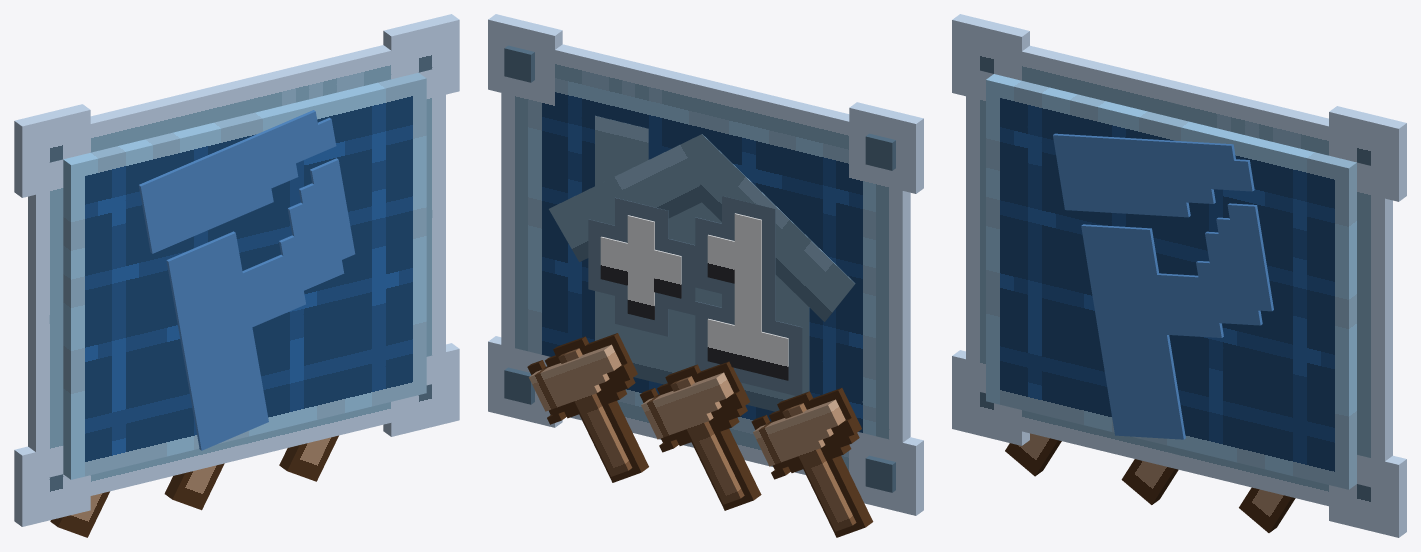
3 views of the same model, side by side, from view 1: azimuth 30°, elevation 25°; view 2: azimuth 150°, elevation 25°; view 3: azimuth 330°, elevation 25° (orthographic). The views are drawn at different scales.
Parts seen in each view (by area): view 1: plan-Local, backp-Local, skull01$$(1)-Local, skull02$$(1)-Local, skull3-Local; view 2: plan-Local, icon_border-Local, icon-Local, house_body-Local, skull3-Local, skull02$$(1)-Local, skull01$$(1)-Local, house_roof_2-Local, house_roof_1-Local, dots-Local; view 3: plan-Local, backp-Local, skull01$$(1)-Local, skull02$$(1)-Local, skull3-Local.
Boxes of the visible parts, bbox=[...] form: plan-Local: bbox=[14, 14, 459, 526]; backp-Local: bbox=[138, 110, 355, 450]; skull01$$(1)-Local: bbox=[164, 463, 224, 510]; skull02$$(1)-Local: bbox=[279, 435, 338, 481]; skull3-Local: bbox=[50, 491, 109, 537]; plan-Local: bbox=[488, 14, 923, 515]; icon_border-Local: bbox=[588, 196, 802, 395]; icon-Local: bbox=[600, 213, 788, 380]; house_body-Local: bbox=[595, 115, 809, 411]; skull3-Local: bbox=[751, 388, 873, 537]; skull02$$(1)-Local: bbox=[527, 333, 648, 482]; skull01$$(1)-Local: bbox=[640, 361, 761, 510]; house_roof_2-Local: bbox=[687, 134, 855, 321]; house_roof_1-Local: bbox=[549, 134, 708, 261]; dots-Local: bbox=[504, 45, 895, 492]; plan-Local: bbox=[952, 14, 1406, 537]; backp-Local: bbox=[1053, 133, 1273, 439]; skull01$$(1)-Local: bbox=[1121, 459, 1178, 504]; skull02$$(1)-Local: bbox=[1239, 487, 1295, 532]; skull3-Local: bbox=[1005, 433, 1061, 476].
Bounding box in the file's own units: 64 × 60.86 × 7.52.
11 materials, 11 textured.
